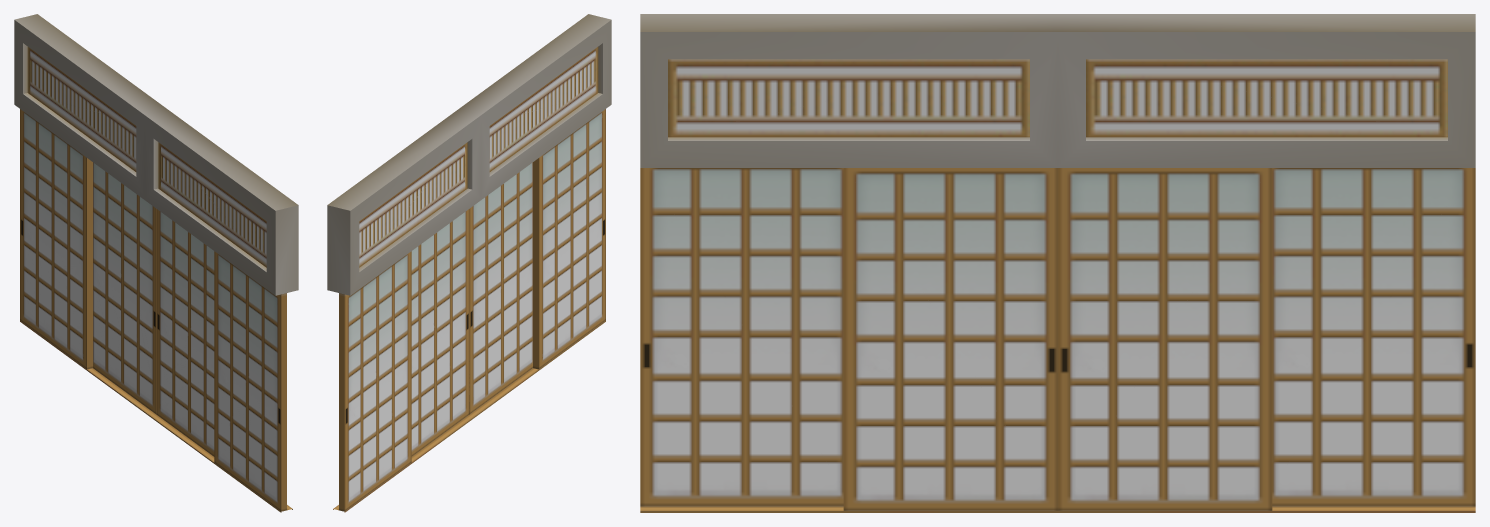
File: syoji_4jyo_01.fbx
The picture shows the model from 3 angles, left to right: view 1: azimuth 30°, elevation 25°; view 2: azimuth 150°, elevation 25°; view 3: azimuth 270°, elevation 25°; orthographic projection. The views are drawn at different scales.
Visible parts, largest first — view 1: ranma01, door04, door02, door01, door03; view 2: ranma01, door02, door04, door03, door01; view 3: ranma01, door01, door03, door02, door04.
Part boxes in pixels (box(x1,y1,x2,y2)): ranma01: box(14, 14, 298, 512); door04: box(214, 251, 286, 511); door02: box(20, 109, 92, 369); door01: box(93, 162, 156, 414); door03: box(156, 209, 214, 456); ranma01: box(327, 14, 611, 512); door02: box(339, 251, 411, 511); door04: box(533, 109, 605, 369); door03: box(469, 162, 532, 414); door01: box(411, 209, 469, 456); ranma01: box(640, 14, 1475, 512); door01: box(1058, 168, 1272, 510); door03: box(843, 168, 1057, 510); door02: box(1272, 168, 1475, 506); door04: box(640, 168, 843, 506).
Bounding box in the file's own units: 40 × 500 × 780.
